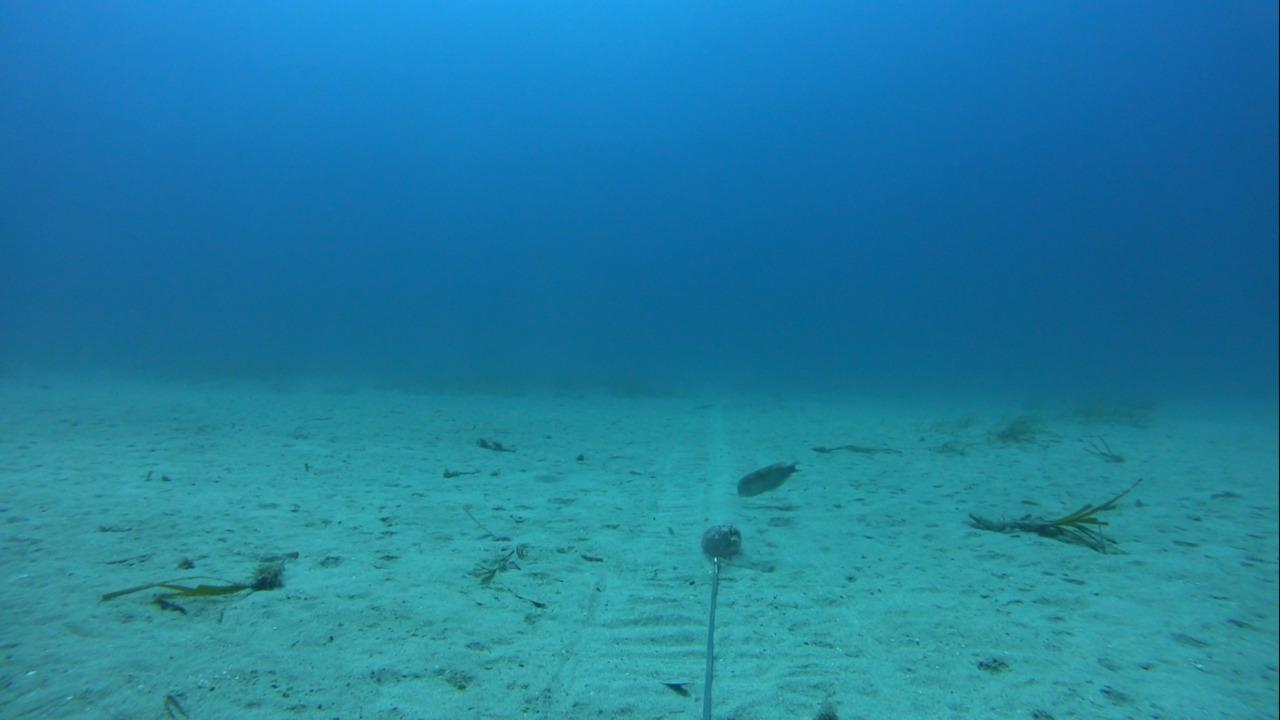raor: (733, 455, 802, 498)
